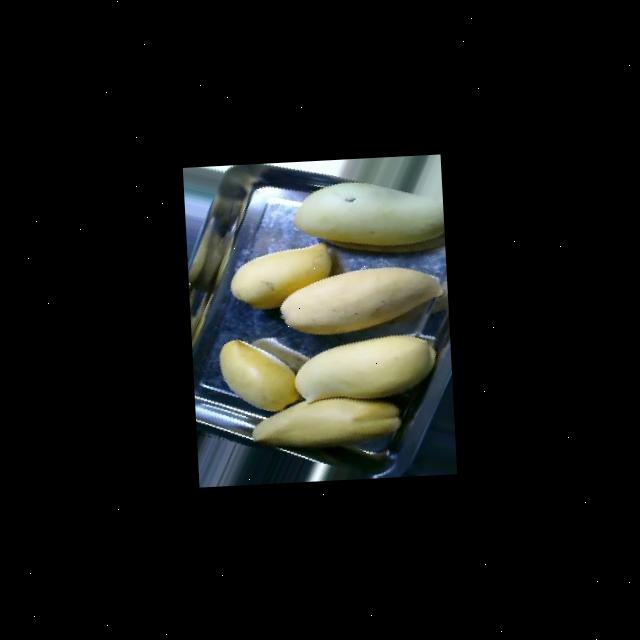Mango: (278, 264, 446, 338), (292, 176, 444, 252), (292, 332, 438, 402), (250, 394, 402, 451)
